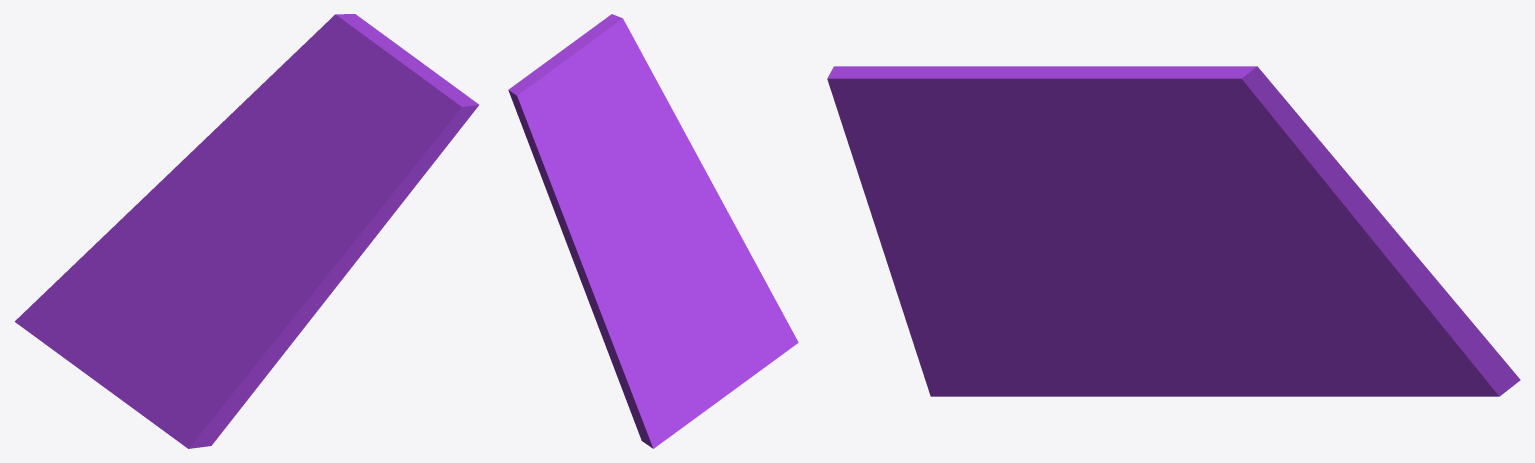
Rendered from Window_63_chunks.fbx.
3 views of the same model, side by side, from view 1: azimuth 30°, elevation 25°; view 2: azimuth 150°, elevation 25°; view 3: azimuth 270°, elevation 25° (orthographic). The views are drawn at different scales.
Visible parts, largest first — view 1: Window_63_7, Window_63_5, Window_63_2, Window_63_0, Window_63_13, Window_63_10, Window_63_6, Window_63_16, Window_63_18, Window_63_1, Window_63_11, Window_63_3 (+5 smaller); view 2: Window_63_7, Window_63_5, Window_63_10, Window_63_6, Window_63_0, Window_63_2, Window_63_13, Window_63_16, Window_63_18, Window_63_1, Window_63_11, Window_63_3 (+5 smaller); view 3: Window_63_7, Window_63_2, Window_63_5, Window_63_10, Window_63_6, Window_63_1, Window_63_18, Window_63_16, Window_63_13, Window_63_8, Window_63_3, Window_63_0 (+3 smaller).
Boxes of the visible parts, <box> form: Window_63_7: <box>14,168,176,376</box>; Window_63_5: <box>90,258,237,423</box>; Window_63_2: <box>265,180,419,339</box>; Window_63_0: <box>176,289,294,448</box>; Window_63_13: <box>372,75,479,189</box>; Window_63_10: <box>207,66,300,206</box>; Window_63_6: <box>174,137,252,258</box>; Window_63_16: <box>281,14,379,102</box>; Window_63_18: <box>341,32,451,117</box>; Window_63_1: <box>155,291,245,439</box>; Window_63_11: <box>252,163,371,228</box>; Window_63_3: <box>221,213,316,299</box>; Window_63_7: <box>582,273,716,448</box>; Window_63_5: <box>660,246,770,402</box>; Window_63_10: <box>535,155,636,247</box>; Window_63_6: <box>568,220,670,283</box>; Window_63_0: <box>702,217,798,349</box>; Window_63_2: <box>660,102,730,232</box>; Window_63_13: <box>586,14,660,104</box>; Window_63_16: <box>508,75,571,160</box>; Window_63_18: <box>529,30,601,111</box>; Window_63_1: <box>690,252,788,362</box>; Window_63_11: <box>634,120,665,225</box>; Window_63_3: <box>653,168,703,269</box>; Window_63_7: <box>1241,224,1520,396</box>; Window_63_2: <box>850,149,1025,298</box>; Window_63_5: <box>1069,279,1263,396</box>; Window_63_10: <box>1148,119,1362,243</box>; Window_63_6: <box>1120,192,1389,304</box>; Window_63_1: <box>945,284,1114,396</box>; Window_63_18: <box>916,66,1162,131</box>; Window_63_16: <box>1136,66,1301,159</box>; Window_63_13: <box>827,66,989,166</box>; Window_63_8: <box>948,107,1158,245</box>; Window_63_3: <box>1021,200,1134,290</box>; Window_63_0: <box>899,295,995,396</box>.
Size of the model in its own units: 833 by 947 by 1164.
